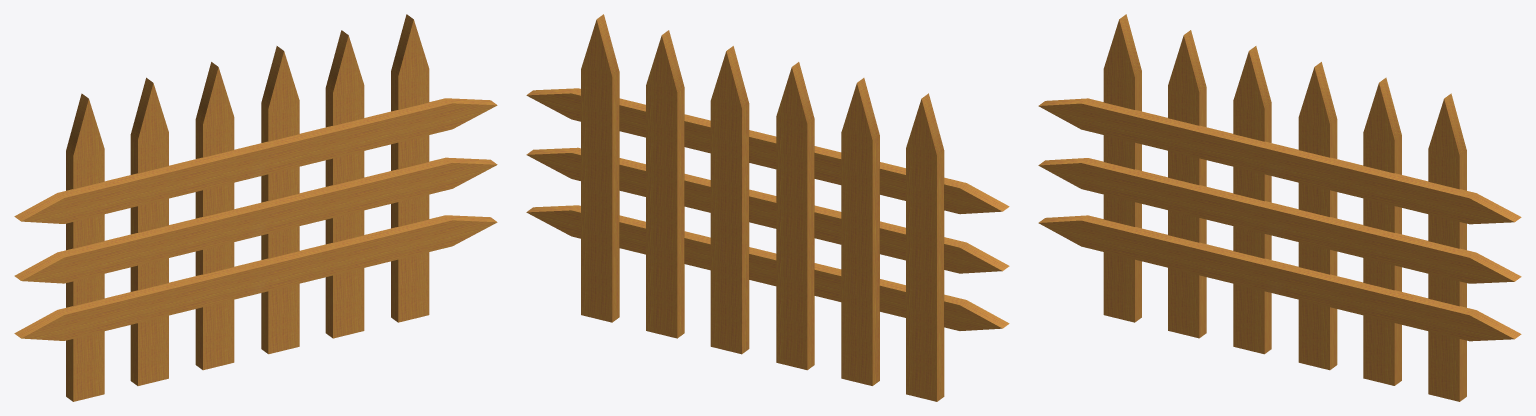
The model's file is SAModel_Fence.fbx.
The picture shows the model from 3 angles, left to right: view 1: azimuth 30°, elevation 25°; view 2: azimuth 150°, elevation 25°; view 3: azimuth 330°, elevation 25°; orthographic projection.
Parts seen in each view (by area): view 1: Stage0001__1_:Fence0; view 2: Stage0001__1_:Fence0; view 3: Stage0001__1_:Fence0.
Boxes of the visible parts, bbox=[...] form: Stage0001__1_:Fence0: bbox=[14, 14, 497, 401]; Stage0001__1_:Fence0: bbox=[526, 14, 1009, 401]; Stage0001__1_:Fence0: bbox=[1038, 14, 1521, 401].
Size of the model in its own units: 29.39 by 17.65 by 1.49.
